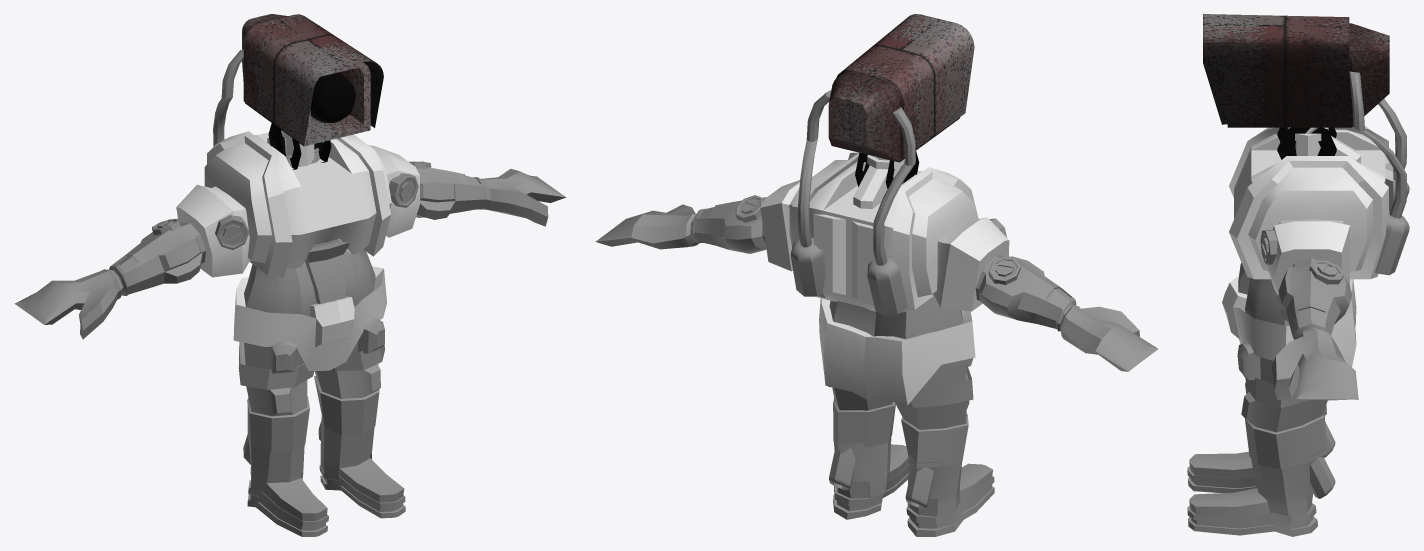
The model's file is enemy.fbx.
3 views of the same model, side by side, from view 1: azimuth 30°, elevation 25°; view 2: azimuth 150°, elevation 25°; view 3: azimuth 270°, elevation 25° (orthographic). The views are drawn at different scales.
Visible parts, largest first — view 1: 立方体; view 2: 立方体; view 3: 立方体.
Boxes of the visible parts, x1,y1,x2,y2 form: 立方体: (14,14,565,536); 立方体: (595,14,1157,536); 立方体: (1187,14,1409,536).
Size of the model in its own units: 371 by 312 by 130.
